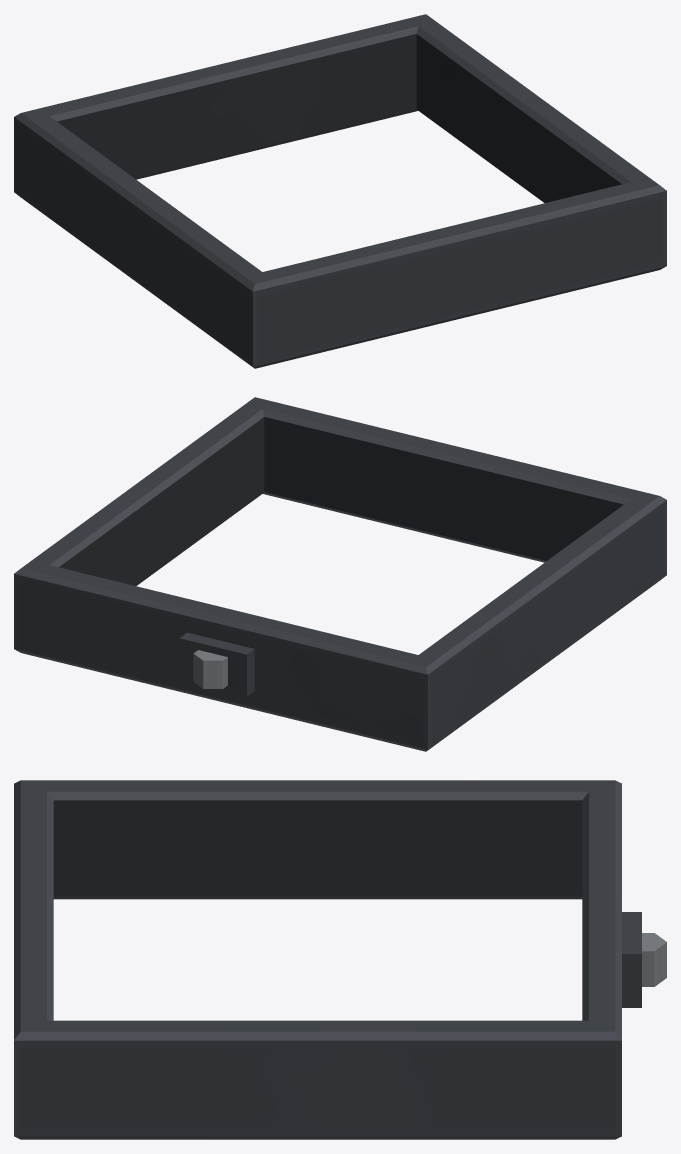
Rendered from band_y.obj.
3 renders of one model, top to bottom at view 1: azimuth 30°, elevation 25°; view 2: azimuth 150°, elevation 25°; view 3: azimuth 270°, elevation 25°, orthographic. The views are drawn at different scales.
Visible parts, largest first — view 1: band_band; view 2: band_band, band_band_lug, band_band_bolt; view 3: band_band, band_band_lug, band_band_bolt.
Part boxes in pixels (x1,y1,x2,y2): band_band: (14,14,666,368); band_band: (14,397,666,751); band_band_lug: (179,632,254,696); band_band_bolt: (193,650,227,688); band_band: (14,780,621,1139); band_band_lug: (622,912,641,1007); band_band_bolt: (642,933,666,986).
Bounding box in the file's own units: 0.575 × 0.1125 × 0.6175.
